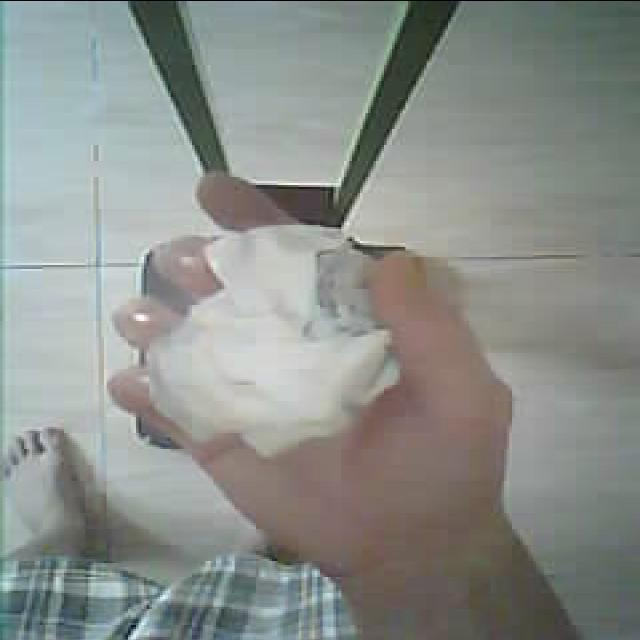Paper: (107, 158, 429, 517)
